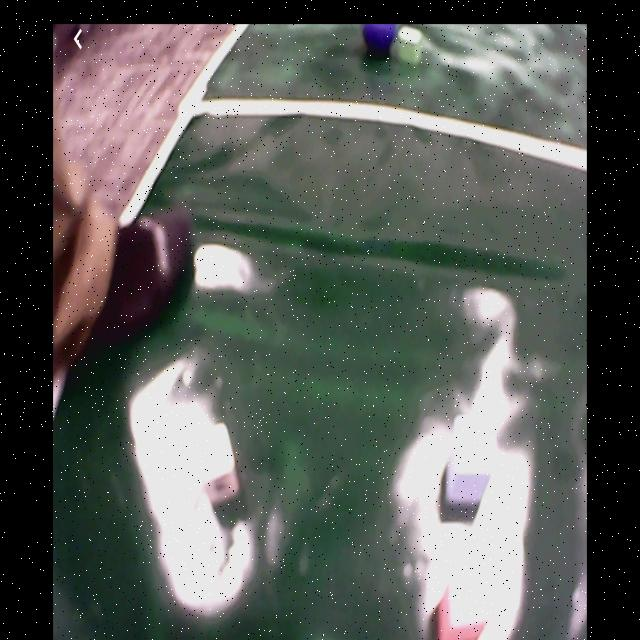ball: (364, 25, 400, 54)
